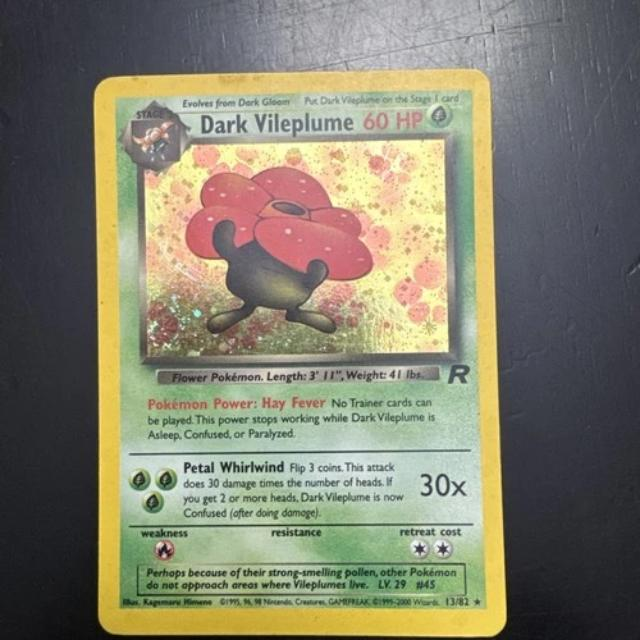Card: (83, 67, 512, 636)
Name: (192, 106, 361, 138)
